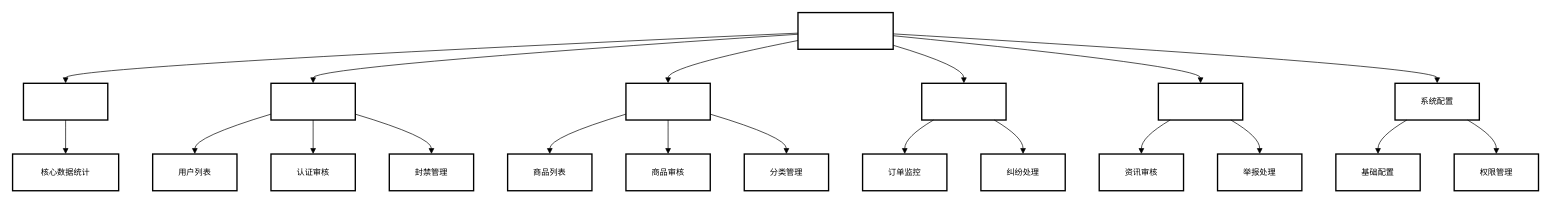
The diagram is 1550 pixels wide and 203 high, and some of its shapes have lost their labels. Each missing label, with the box of its shape:
内容审核: (1157, 82, 1243, 120)
商品管理: (625, 82, 711, 120)
数据看板: (22, 82, 108, 120)
用户管理: (270, 82, 356, 120)
管理员界面: (797, 12, 894, 50)
订单管理: (921, 82, 1006, 120)
